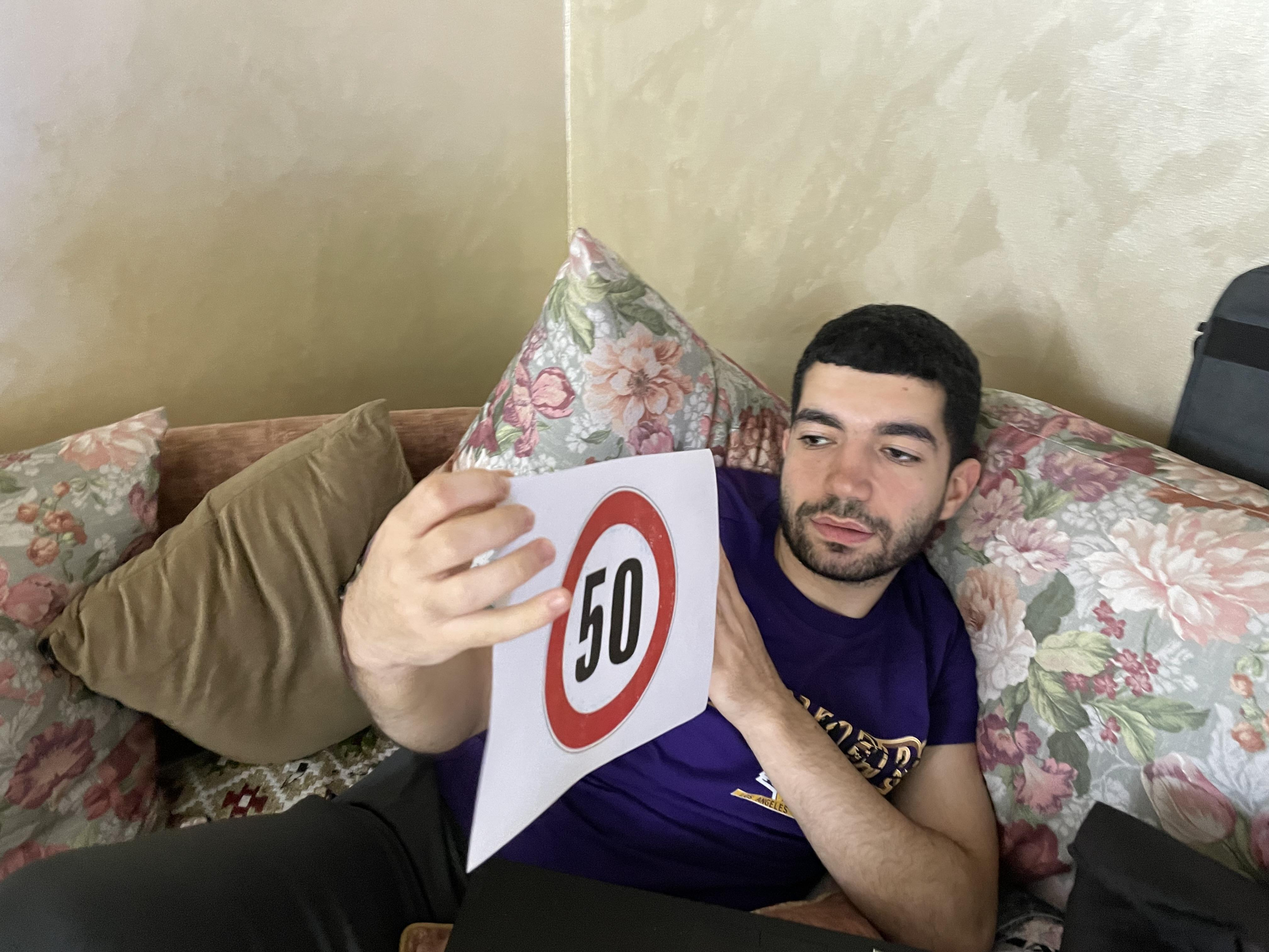50-Speed: (545, 482, 674, 748)
